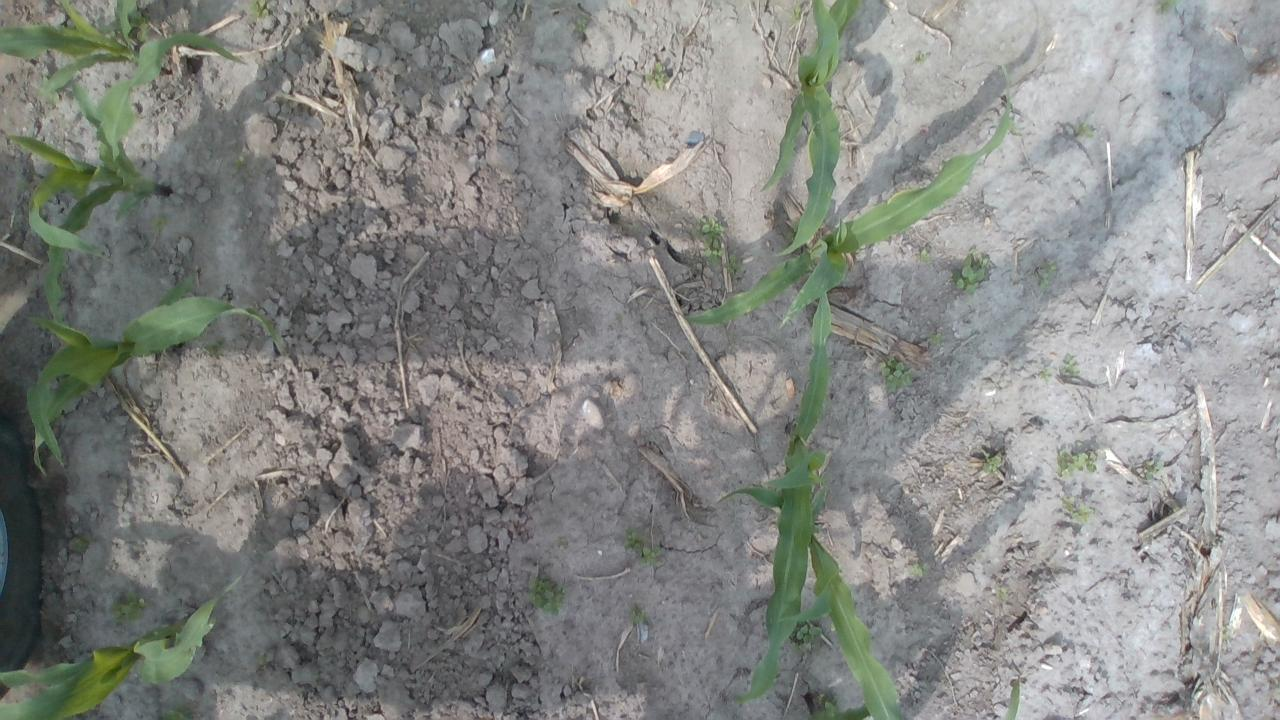Maize: (672, 68, 1018, 332), (3, 271, 292, 477), (716, 286, 836, 706), (1, 82, 177, 330), (804, 524, 1022, 718), (0, 573, 245, 716), (759, 4, 870, 257), (2, 1, 248, 102)
Weeds: (698, 220, 741, 276), (522, 573, 567, 614), (952, 250, 988, 294), (621, 531, 663, 563), (1058, 446, 1099, 476), (111, 596, 148, 627), (879, 358, 911, 389), (1063, 498, 1098, 524), (794, 623, 826, 651), (652, 62, 672, 88), (1034, 257, 1054, 279), (201, 340, 223, 360), (246, 1, 268, 20), (986, 450, 1004, 470), (628, 602, 642, 622), (1150, 462, 1167, 478), (1080, 124, 1095, 139), (230, 155, 242, 169), (1158, 1, 1173, 12), (1062, 356, 1074, 369)
